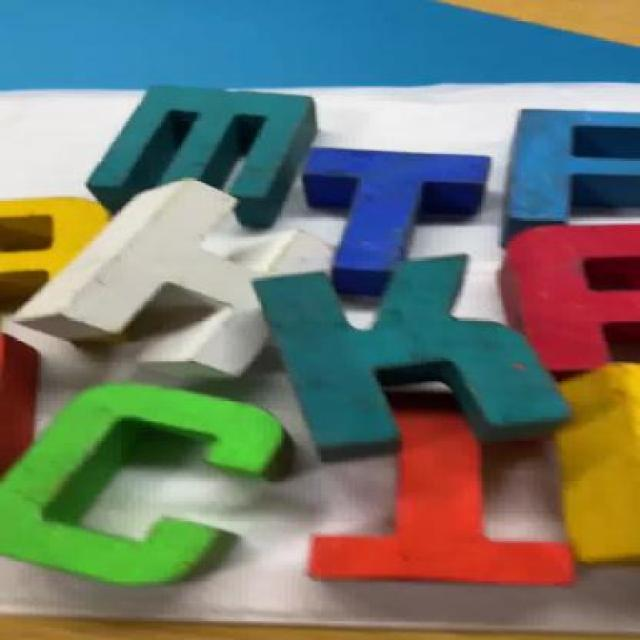C: (0, 385, 309, 600)
H: (1, 176, 368, 384)
K: (253, 258, 590, 453)
M: (97, 81, 306, 217)
T: (306, 145, 499, 293)
